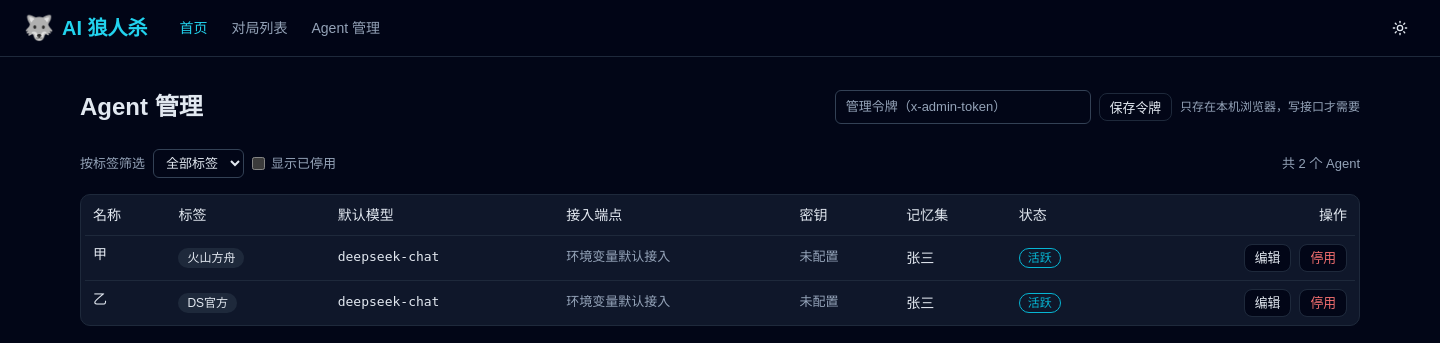
Test: 停用走软删除：只提交 isActive，并把该行切成已停用
Expected: the text "甲" is shown, [93, 246, 107, 262]
Click the button "停用" in the row of "火山方舟".
click(1323, 258)  # box [1299, 244, 1347, 272]
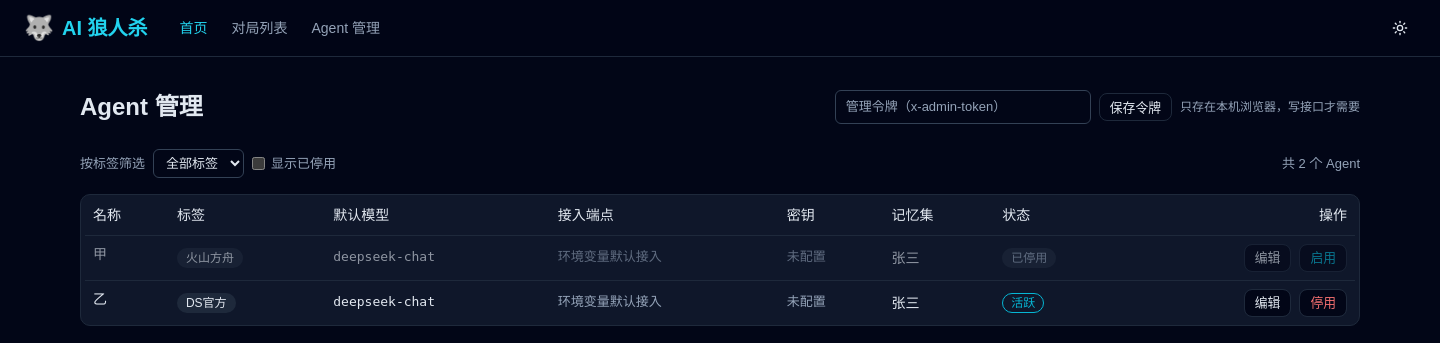
Result: the button "启用" is shown at [1299, 244, 1347, 272]
Result: the icon "已停用" is shown at [1002, 248, 1056, 268]
